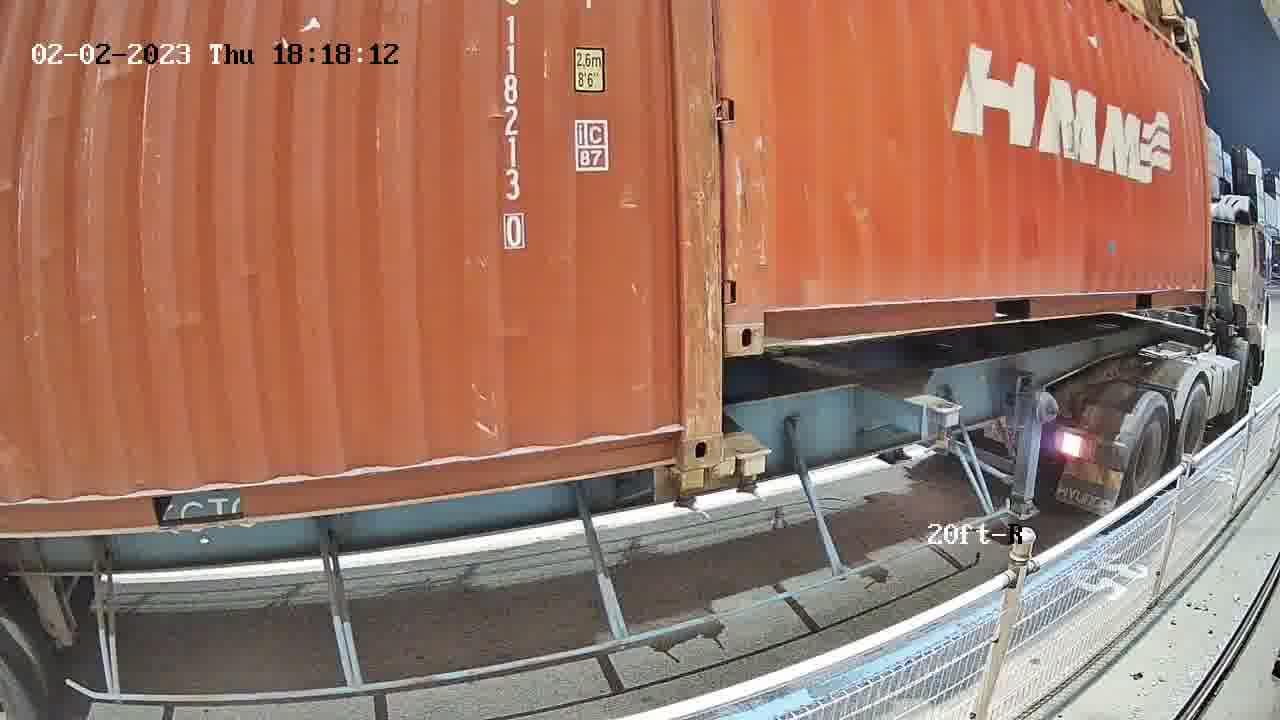Cone: (732, 441, 765, 496), (674, 467, 707, 510)
Hole_L: (728, 277, 801, 356)
Hole_R: (641, 395, 723, 469)
Tire: (1131, 413, 1170, 500), (1180, 386, 1210, 468)
